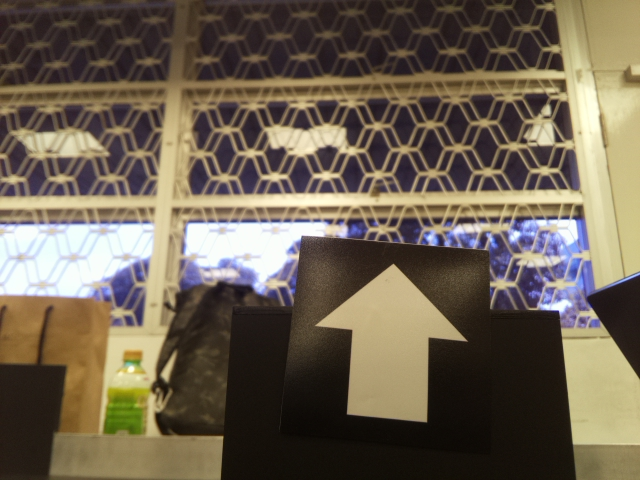up: (319, 253, 471, 443)
